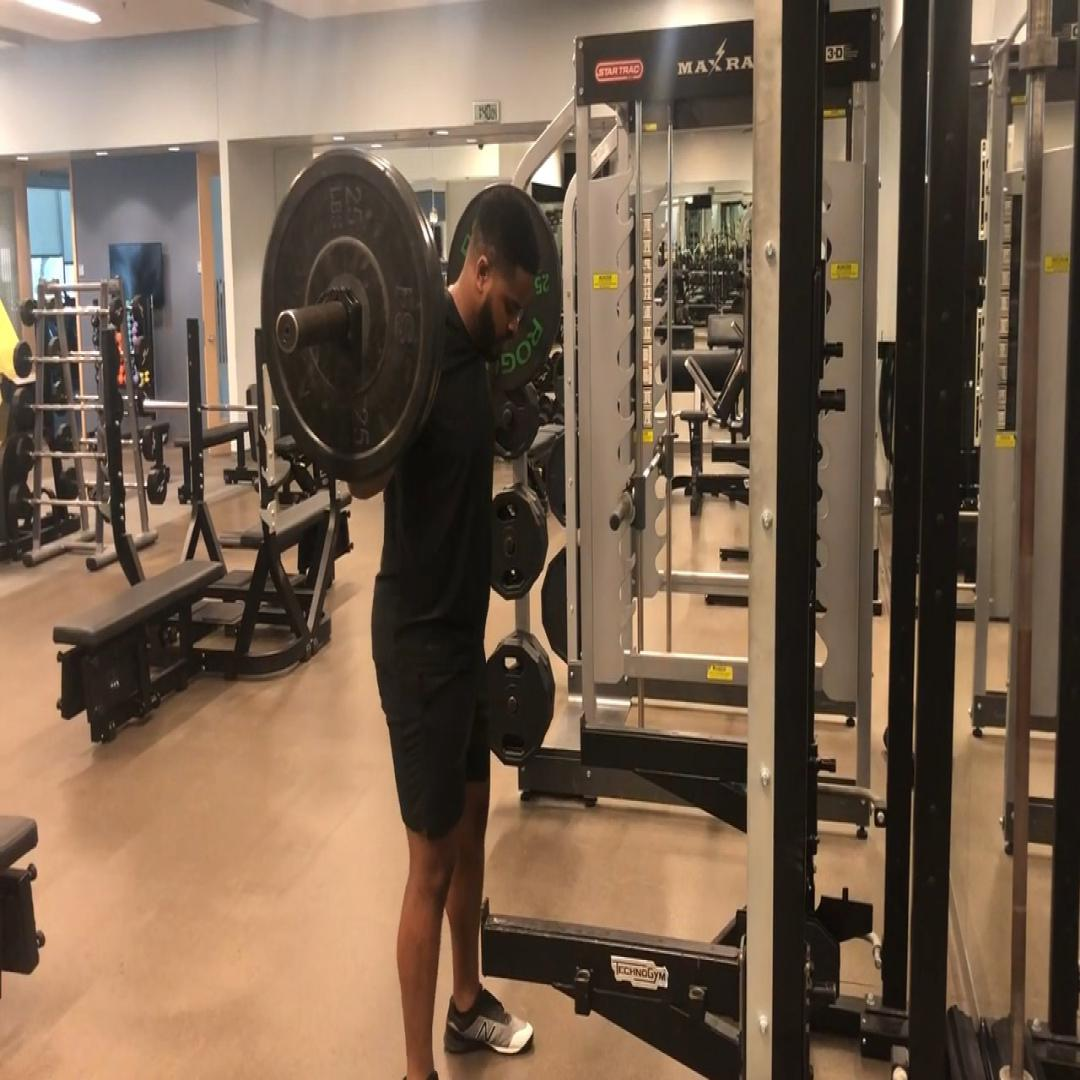Bar: (275, 311, 299, 352)
Barbell: (260, 151, 434, 483)
